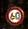Speed Limit -60-: (4, 5, 24, 25)
